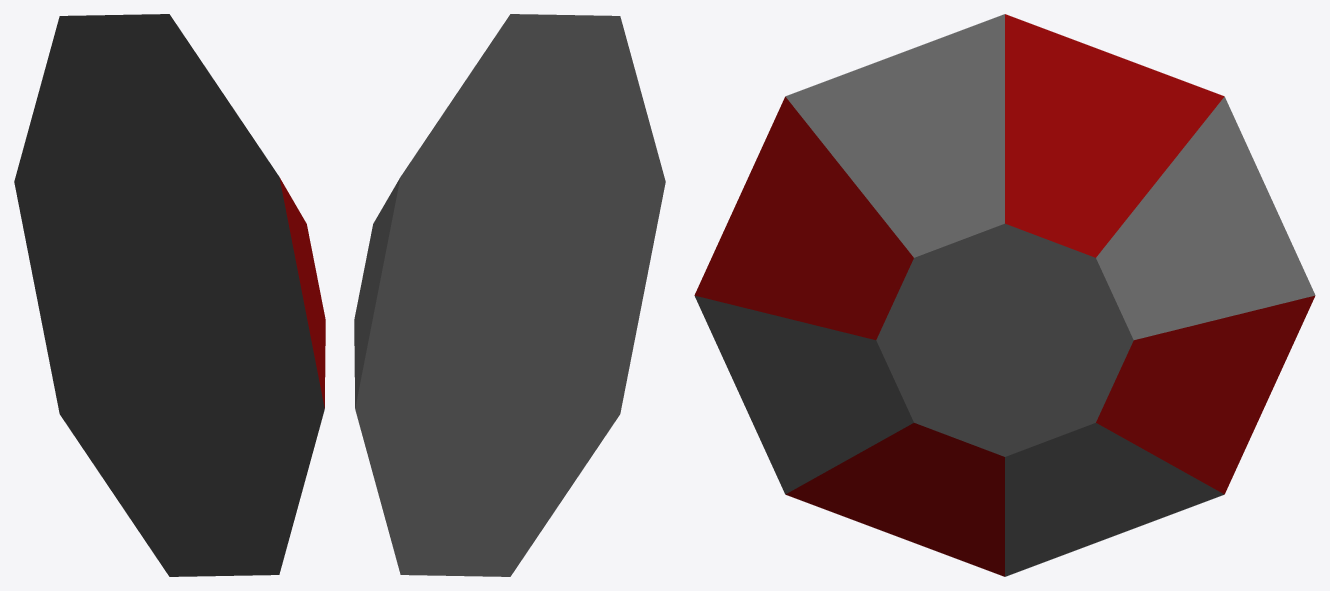
The model's file is thargoid.obj.
3 renders of one model, left to right at view 1: azimuth 30°, elevation 25°; view 2: azimuth 150°, elevation 25°; view 3: azimuth 270°, elevation 25°, orthographic.
Visible parts, largest first — view 1: thargoid; view 2: thargoid; view 3: thargoid.
Part boxes in pixels (left/top/right/bottom): thargoid: left=14, top=14, right=325, bottom=576; thargoid: left=354, top=14, right=665, bottom=576; thargoid: left=694, top=14, right=1315, bottom=576.
Bounding box in the file's own units: 56 × 328 × 328.
